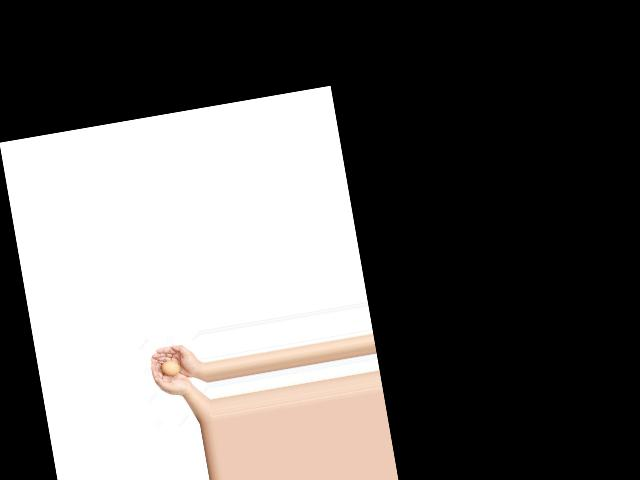egg: (161, 359, 181, 377)
